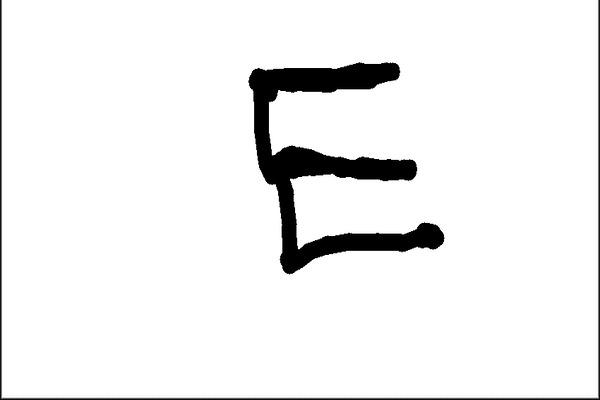E: (244, 58, 448, 277)
